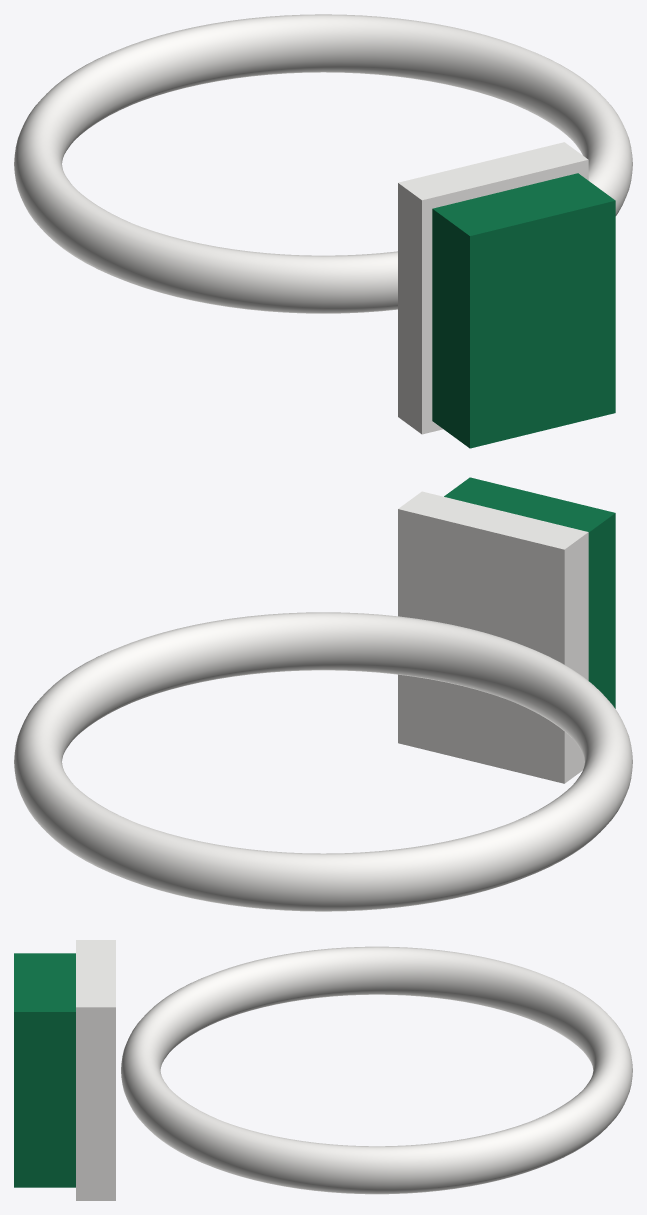
The model's file is ring-emerald.glb.
The picture shows the model from 3 angles, top to bottom: view 1: azimuth 30°, elevation 25°; view 2: azimuth 150°, elevation 25°; view 3: azimuth 270°, elevation 25°; orthographic projection. The views are drawn at different scales.
Visible parts, largest first — view 1: band, stone, bezel; view 2: band, bezel, stone; view 3: band, stone, bezel.
Part boxes in pixels (box(x1,y1,x2,y2)): band: box(14, 14, 632, 313); stone: box(432, 173, 615, 448); bezel: box(398, 142, 588, 434); band: box(14, 612, 632, 911); bezel: box(398, 491, 588, 783); stone: box(444, 477, 615, 708); band: box(121, 946, 632, 1194); stone: box(14, 953, 75, 1187); bezel: box(76, 940, 115, 1200).
Bounding box in the file's own units: 0.0206 × 0.0086 × 0.0249.
